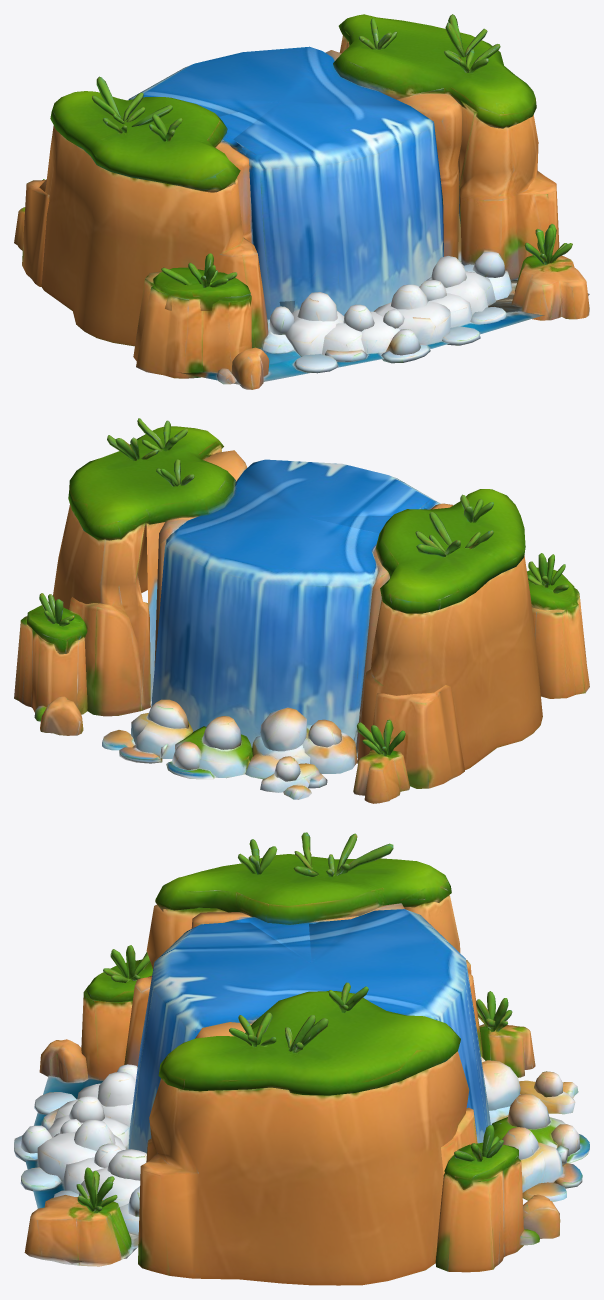
File: s2_r2c2_wide_waterfall_cliff.glb
The picture shows the model from 3 angles, top to bottom: view 1: azimuth 30°, elevation 25°; view 2: azimuth 150°, elevation 25°; view 3: azimuth 270°, elevation 25°; orthographic projection. The views are drawn at different scales.
Size of the model in its own units: 1 by 0.4644 by 0.9998.
Materials: 1 (1 with a texture image).
